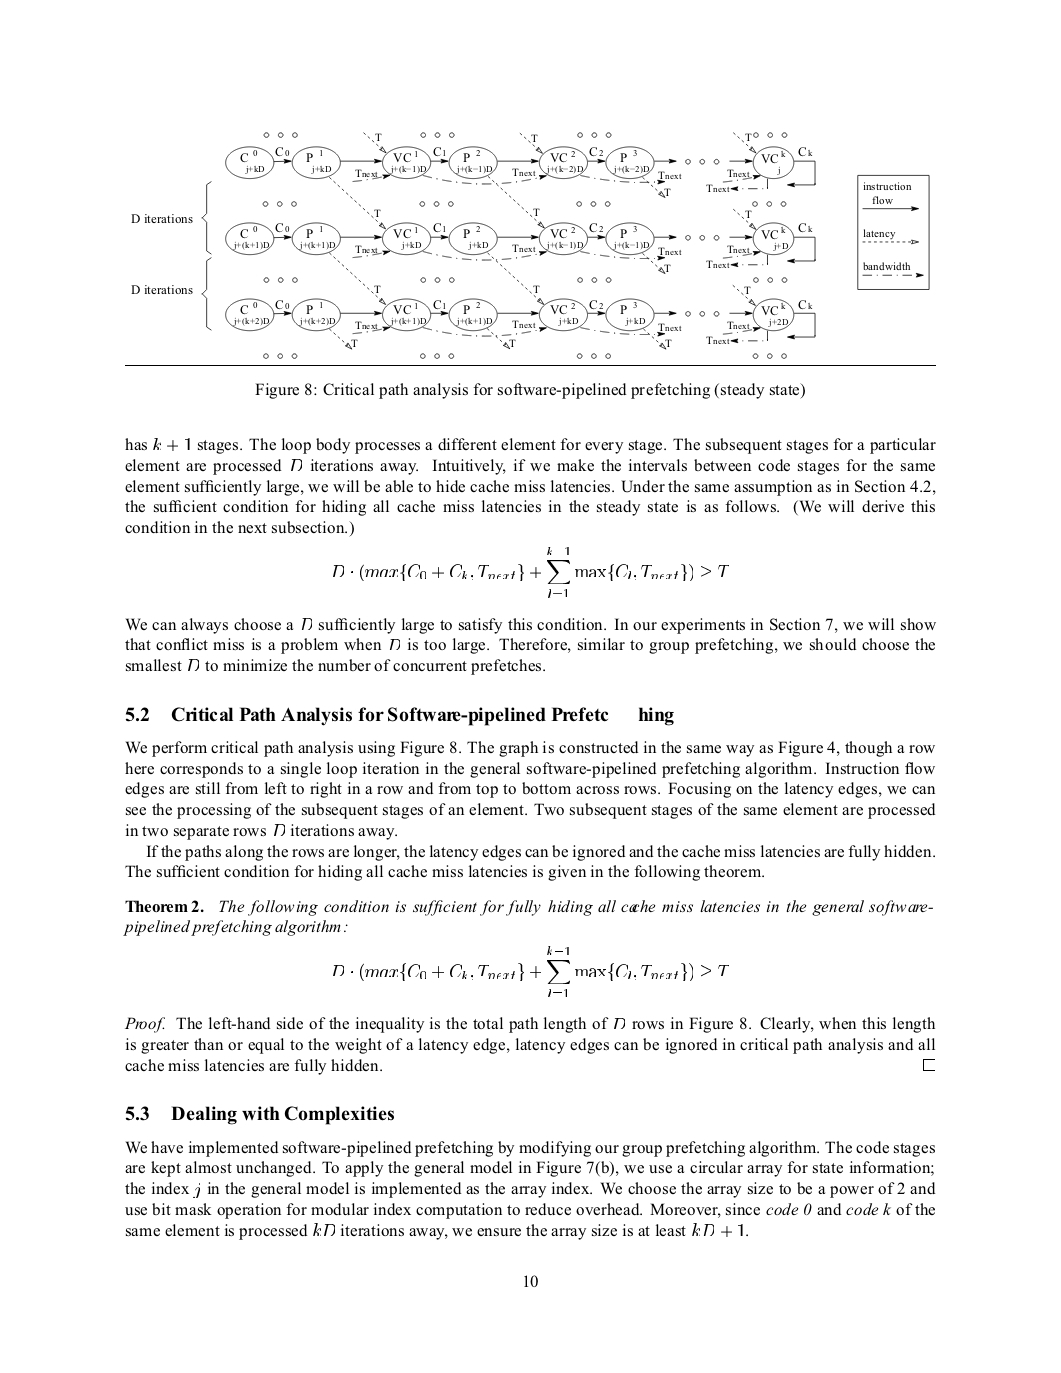figure: (132, 132, 929, 358)
formula: (333, 547, 728, 597), (333, 946, 728, 996)
